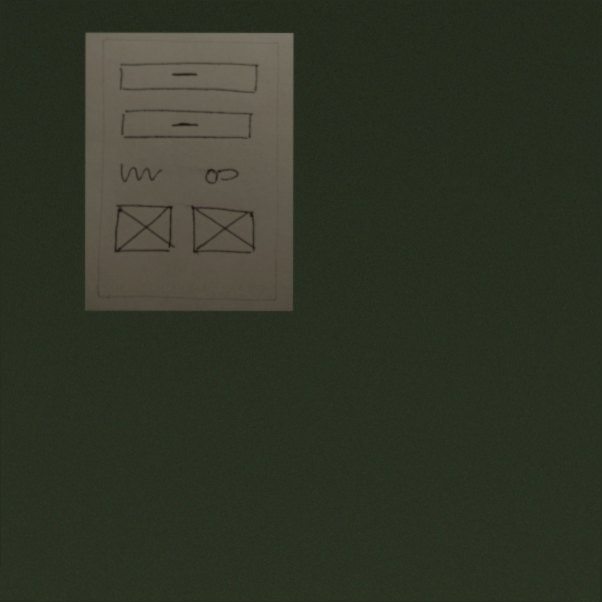button: (115, 59, 262, 97), (119, 106, 258, 144)
image: (109, 197, 179, 257), (188, 203, 263, 259)
switch: (196, 163, 245, 188)
text: (118, 158, 165, 188)
